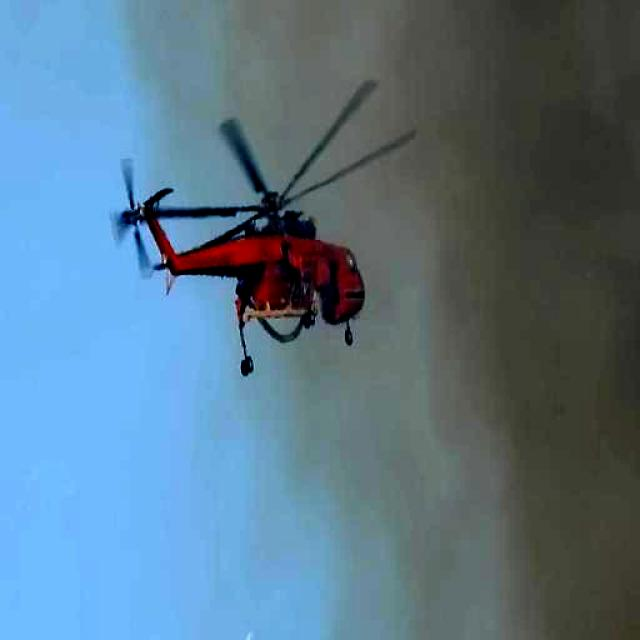drone: (118, 105, 419, 390)
